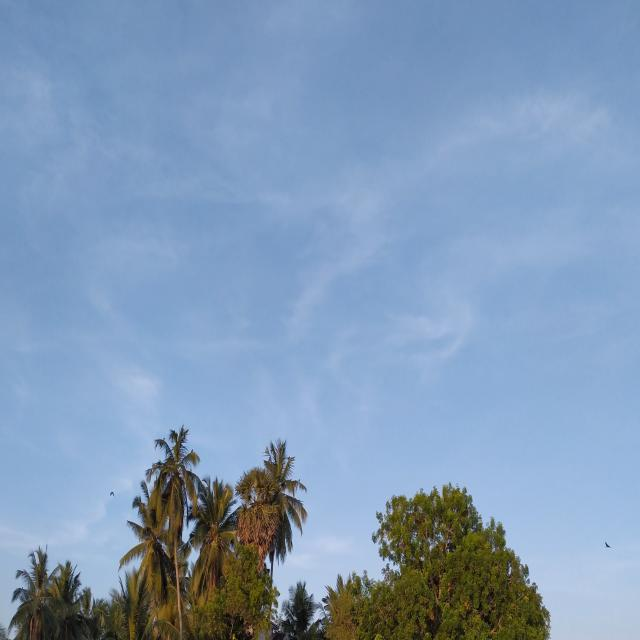bird: (108, 488, 116, 500)
